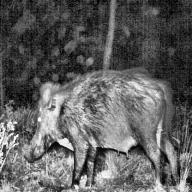boar: (27, 68, 184, 190)
